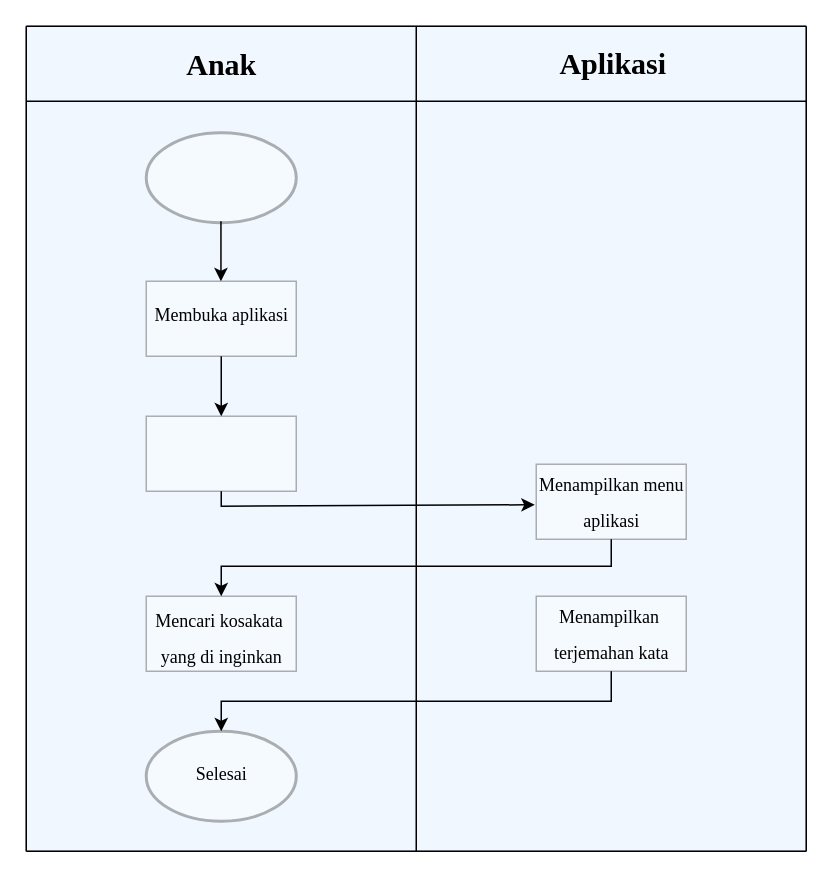
This 834x879 diagram has some shape labels left out. Each missing label, with the centre of its shape:
Membuka menu: the point at 220,453
Mulai: the point at 220,177
